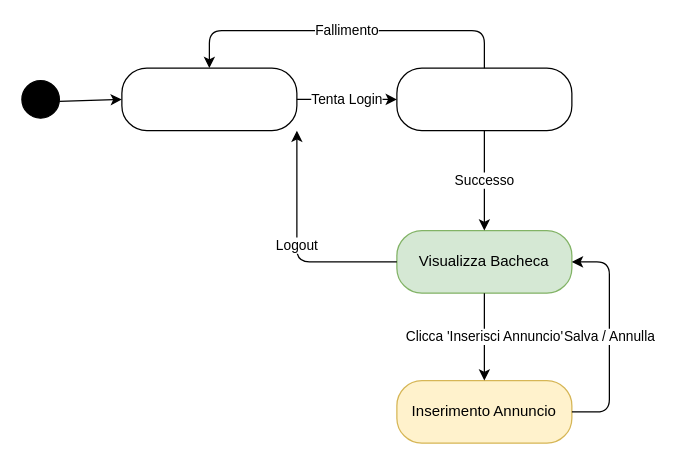
Some shapes in this 676 by 465 pixel diagram are drawn without their labels. Here are the shapes that lost their labels. From the top down, the box of each, then its label:
(121, 67, 297, 131): Non Autenticato
(396, 67, 572, 131): Login in Corso
